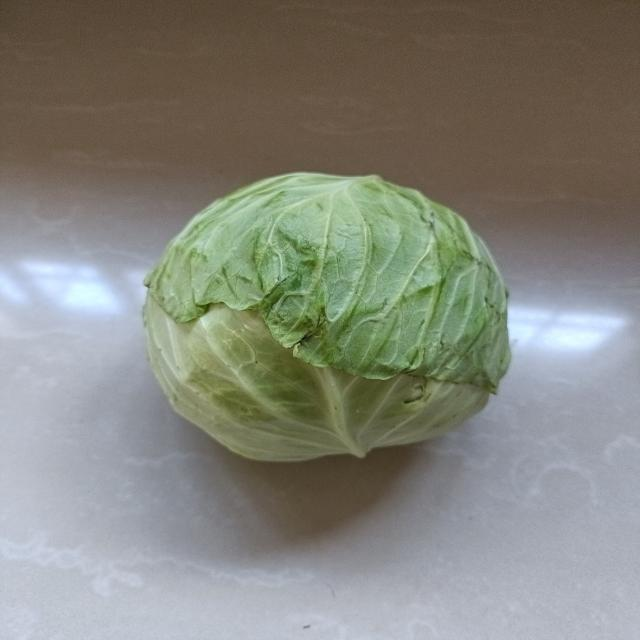cabbage: (140, 167, 521, 466)
